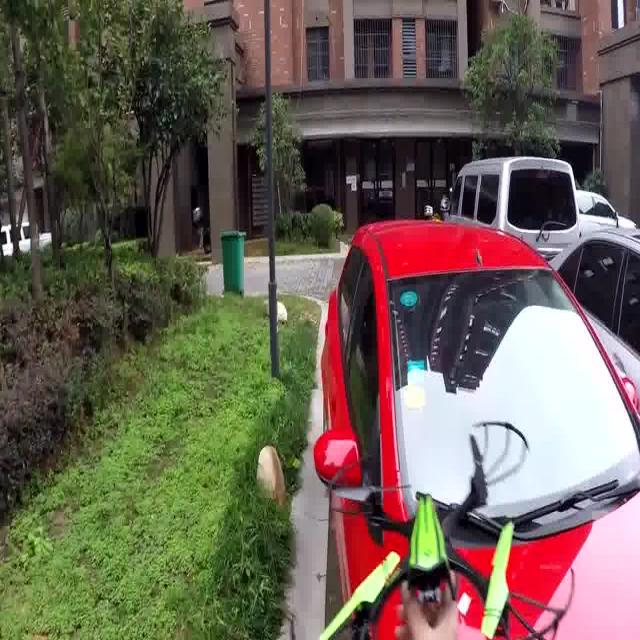drone: (308, 425, 576, 639)
